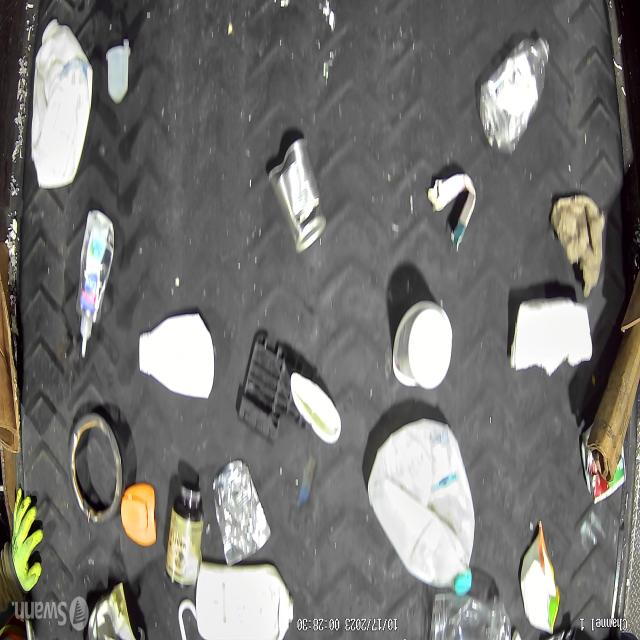can: (268, 135, 326, 255), (213, 458, 270, 565)
milk_jug: (366, 418, 474, 596), (32, 19, 94, 190)
plastic_bottle: (476, 33, 551, 156), (75, 206, 117, 348), (427, 593, 519, 640)
